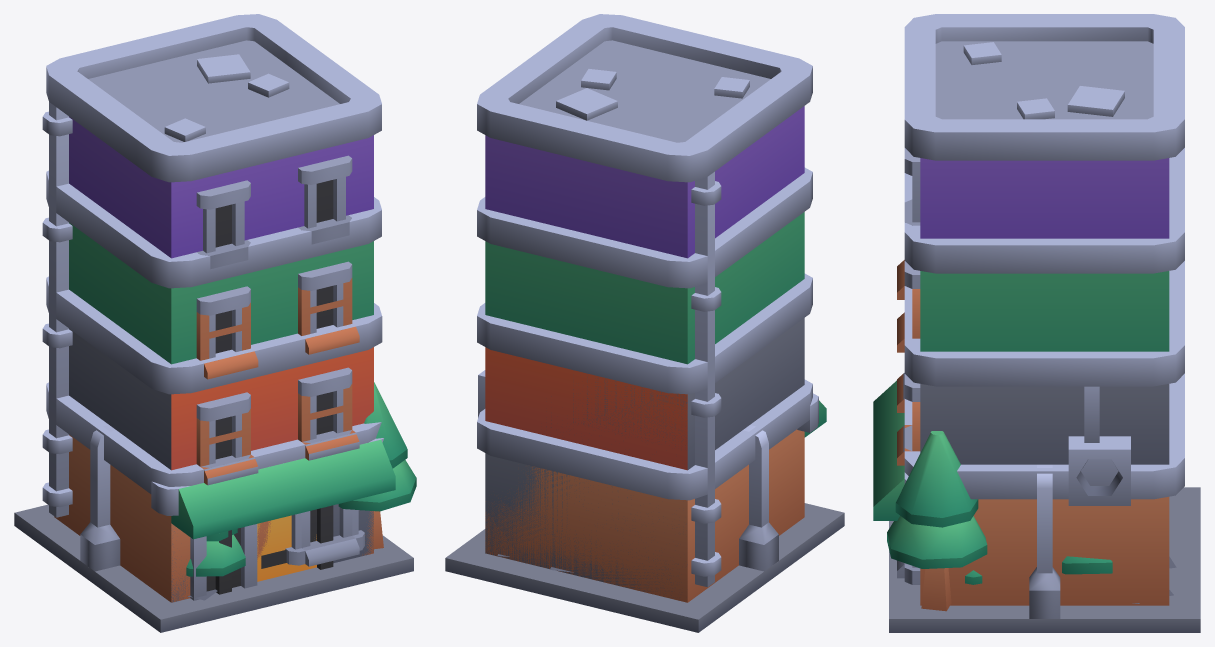
Rendered from city.glb.
3 views of the same model, side by side, from view 1: azimuth 30°, elevation 25°; view 2: azimuth 150°, elevation 25°; view 3: azimuth 270°, elevation 25° (orthographic). The views are drawn at different scales.
Visible parts, largest first — view 1: building-small-c, building-small-b, building-small-d, building-small-a, building-garage, grass-trees-tall, road-straight-lightposts; view 2: building-small-c, building-small-b, building-small-a, building-small-d, building-garage, road-straight-lightposts; view 3: building-small-c, building-small-d, building-small-b, grass-trees-tall, building-garage, building-small-a, road-straight-lightposts, grass-trees.
Part boxes in pixels (x1,y1,x2,y2): building-small-c: [14, 14, 413, 632]; building-small-b: [15, 170, 413, 619]; building-small-d: [42, 276, 395, 602]; building-small-a: [43, 332, 383, 602]; building-garage: [42, 382, 381, 602]; grass-trees-tall: [186, 382, 416, 576]; road-straight-lightposts: [80, 425, 120, 571]; building-small-c: [445, 14, 844, 632]; building-small-b: [446, 167, 844, 619]; building-small-a: [478, 323, 818, 601]; building-small-d: [477, 273, 826, 602]; building-garage: [477, 379, 812, 597]; road-straight-lightposts: [739, 425, 778, 571]; building-small-c: [889, 14, 1200, 632]; building-small-d: [873, 261, 1184, 605]; building-small-b: [889, 148, 1200, 618]; grass-trees-tall: [887, 431, 987, 611]; building-garage: [904, 373, 1184, 499]; building-small-a: [902, 373, 1153, 565]; road-straight-lightposts: [1029, 464, 1060, 618]; grass-trees: [965, 556, 1112, 584].
Size of the model in its own units: 1.07 by 1.75 by 1.05.
Materials: 1 (1 with a texture image).
